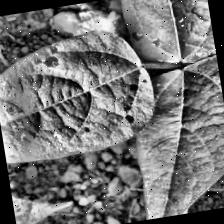ALS: (0, 23, 160, 173), (119, 59, 224, 221), (122, 0, 217, 76), (6, 148, 75, 224)
